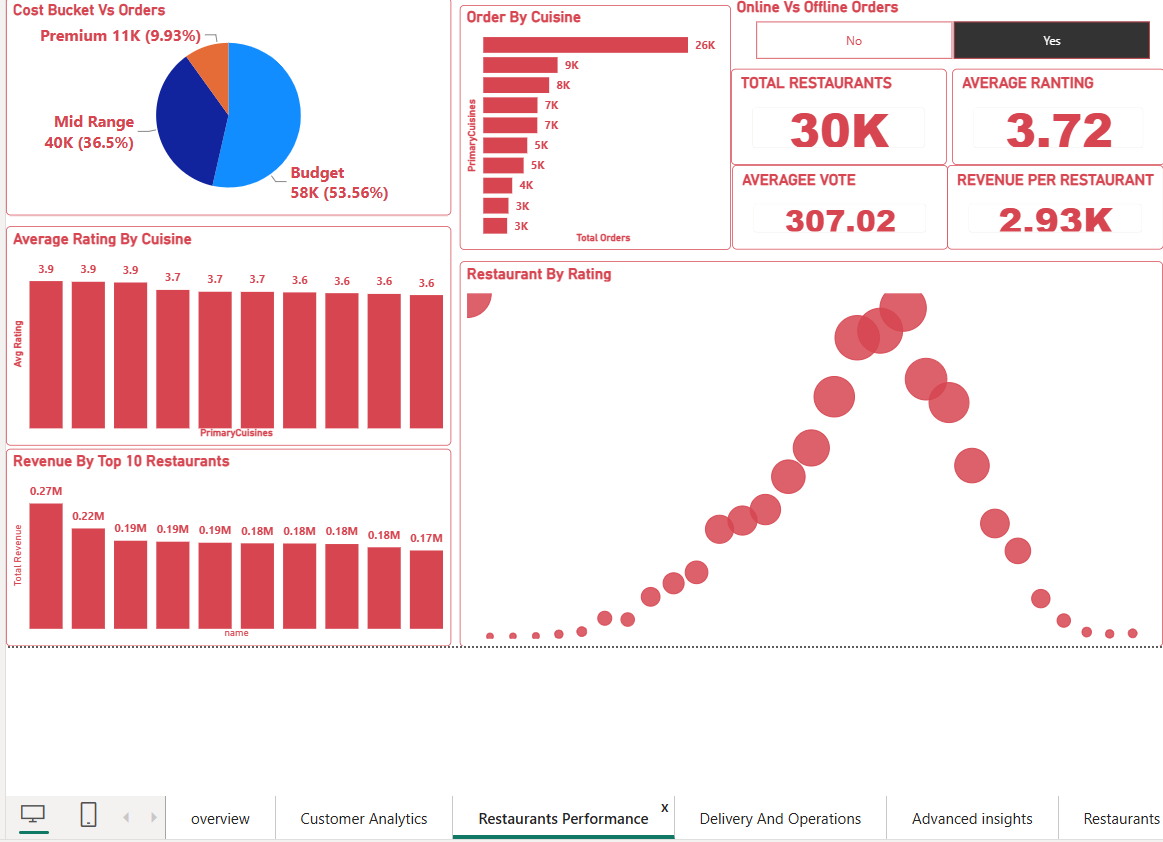

The page's visual inventory and layout, read from the dashboard file:
{"tool":"powerbi","page":{"name":"Restaurants Performance","canvas":[1280,720],"ordinal":2},"visuals":[{"type":"cardVisual","title":"TOTAL RESTAURANTS","fields":{"Data":["Orders.Total Restaurants"]},"box":[796.1,86.9,236.4,105.4],"z":0},{"type":"cardVisual","title":"AVERAGE RANTING","fields":{"Data":["Orders.Avg Rating"]},"box":[1038.2,86.9,233.6,105.4],"z":1000},{"type":"cardVisual","title":"AVERAGEE VOTE","fields":{"Data":["Orders.Avg Votes"]},"box":[797.5,192.3,236.4,92.6],"z":2000},{"type":"cardVisual","title":"REVENUE PER RESTAURANT","fields":{"Data":["Orders.Revenue per Restaurant"]},"box":[1033.9,192.3,237.8,92.6],"z":3000},{"type":"barChart","title":"Order By Cuisine","fields":{"Y":["Orders.Total Orders"],"Category":["Restaurants.PrimaryCuisines"]},"box":[498.4,17.1,297.6,269.2],"z":4000},{"type":"columnChart","title":"Revenue By Top 10 Restaurants","fields":{"Y":["Orders.Total Revenue"],"Category":["Restaurants.name"]},"box":[0,504.1,488.5,216.5],"z":5000},{"type":"columnChart","title":"Average Rating By Cuisine ","fields":{"Category":["Restaurants.PrimaryCuisines"],"Y":["Orders.Avg Rating"]},"box":[0,259.2,488.5,240.7],"z":6000},{"type":"scatterChart","title":"Restaurant By Rating","fields":{"Y":["Orders.Total Revenue"],"X":["Restaurants.rate"],"Size":["Orders.Total Orders"]},"box":[498.4,297.6,771.9,423],"z":7000},{"type":"pieChart","title":"Cost Bucket Vs Orders","fields":{"Category":["Restaurants.Cost Bucket"],"Y":["Orders.Total Orders"]},"box":[0,8.5,488.5,239.3],"z":8000},{"type":"slicer","title":"Online Vs Offline Orders","fields":{"Values":["Restaurants.Online_Order 2"]},"box":[797.5,8.5,482.8,74.1],"z":9000}]}

Visuals, with their boxes on the page's 1280x720 design canvas (x1, y1, x2, y2). These are canvas units, not pixel positions in the 1163x842 screenshot, which may show the page scaled, cropped or inside an application window:
"TOTAL RESTAURANTS" cardVisual: Rect(796, 87, 1032, 192)
"AVERAGE RANTING" cardVisual: Rect(1038, 87, 1272, 192)
"AVERAGEE VOTE" cardVisual: Rect(798, 192, 1034, 285)
"REVENUE PER RESTAURANT" cardVisual: Rect(1034, 192, 1272, 285)
"Order By Cuisine" barChart: Rect(498, 17, 796, 286)
"Revenue By Top 10 Restaurants" columnChart: Rect(0, 504, 488, 721)
"Average Rating By Cuisine " columnChart: Rect(0, 259, 488, 500)
"Restaurant By Rating" scatterChart: Rect(498, 298, 1270, 721)
"Cost Bucket Vs Orders" pieChart: Rect(0, 8, 488, 248)
"Online Vs Offline Orders" slicer: Rect(798, 8, 1280, 83)
